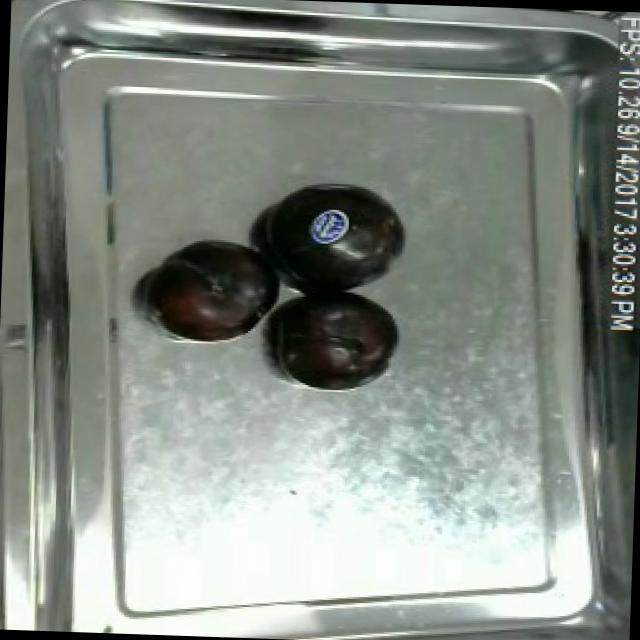Fruit: (146, 232, 286, 343), (266, 280, 406, 389), (300, 202, 359, 250)
